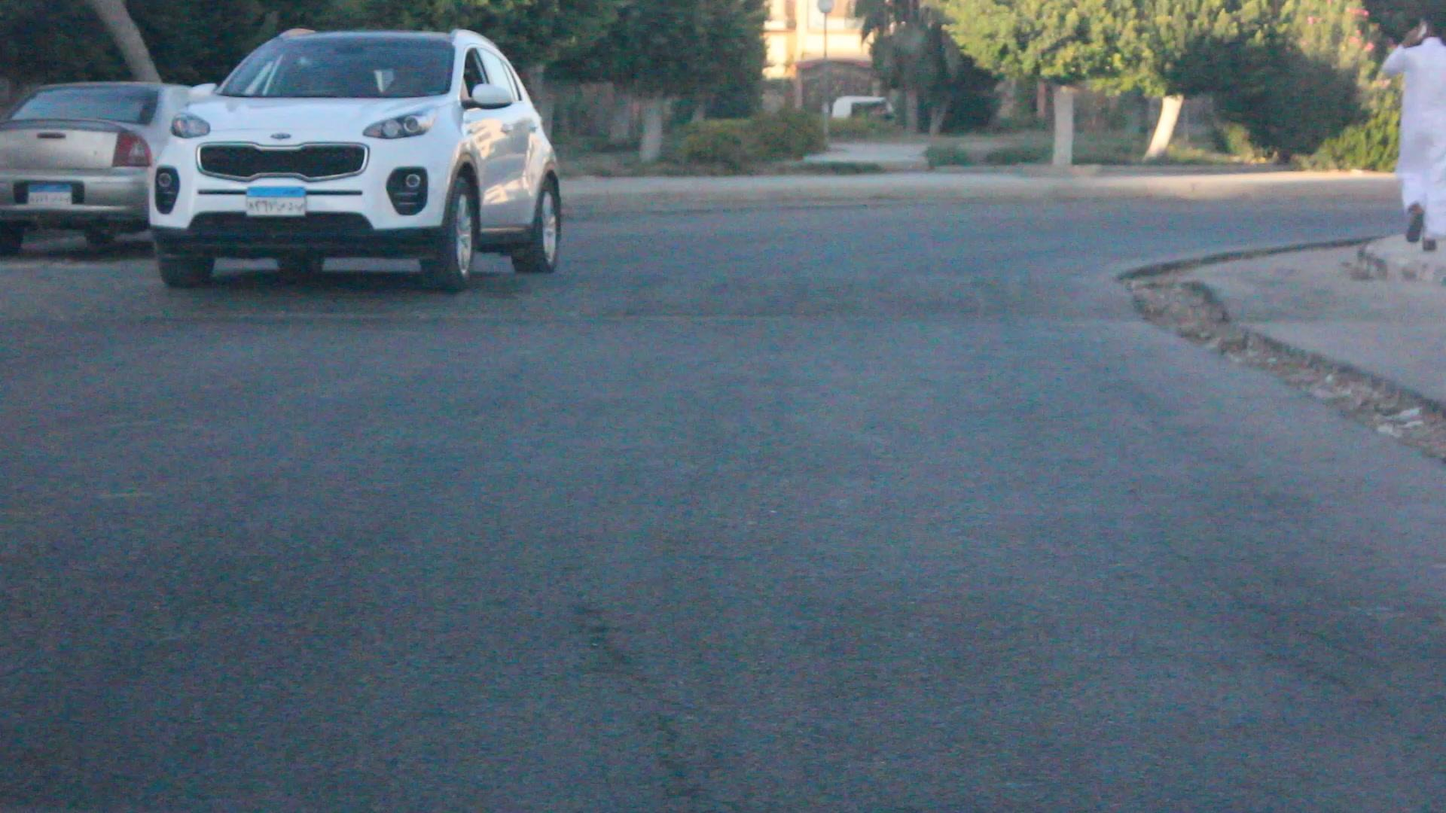Bump: (0, 265, 1167, 331)
